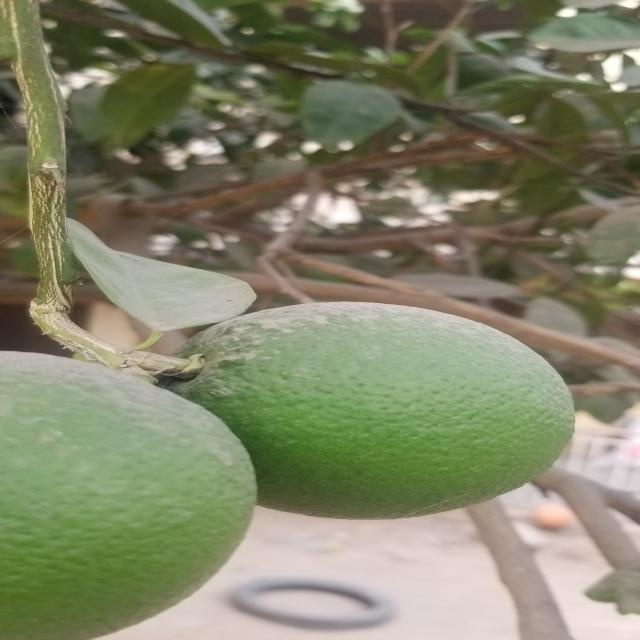agrume: (160, 305, 571, 522), (13, 352, 242, 640)
